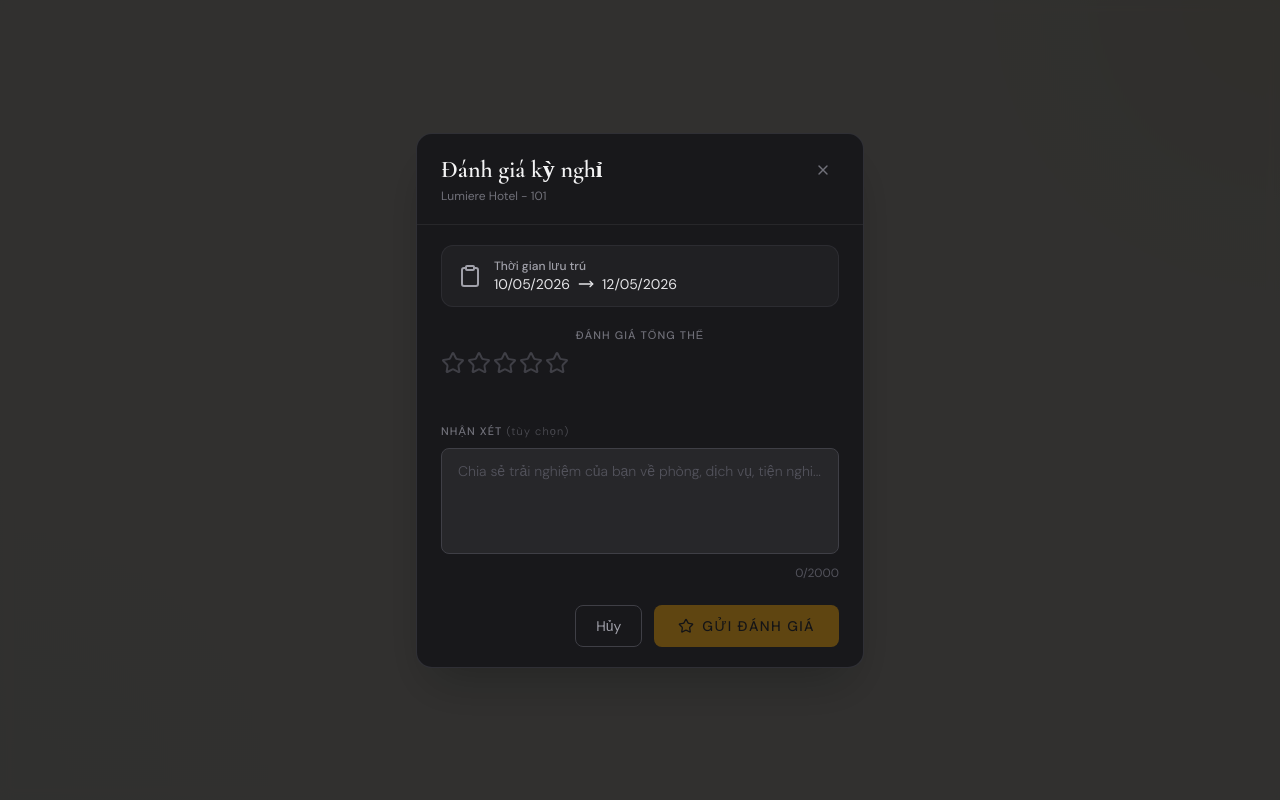
Test: ReviewModal › should update comment and character count
The image size is (1280, 800).
Step 1. Type "Phòng sạch và dịch vụ tốt" into the text box with placeholder "Chia sẻ trải nghiệm của bạn về phòng, dịch vụ, tiện nghi..." → (640, 500), box [441, 448, 839, 554]
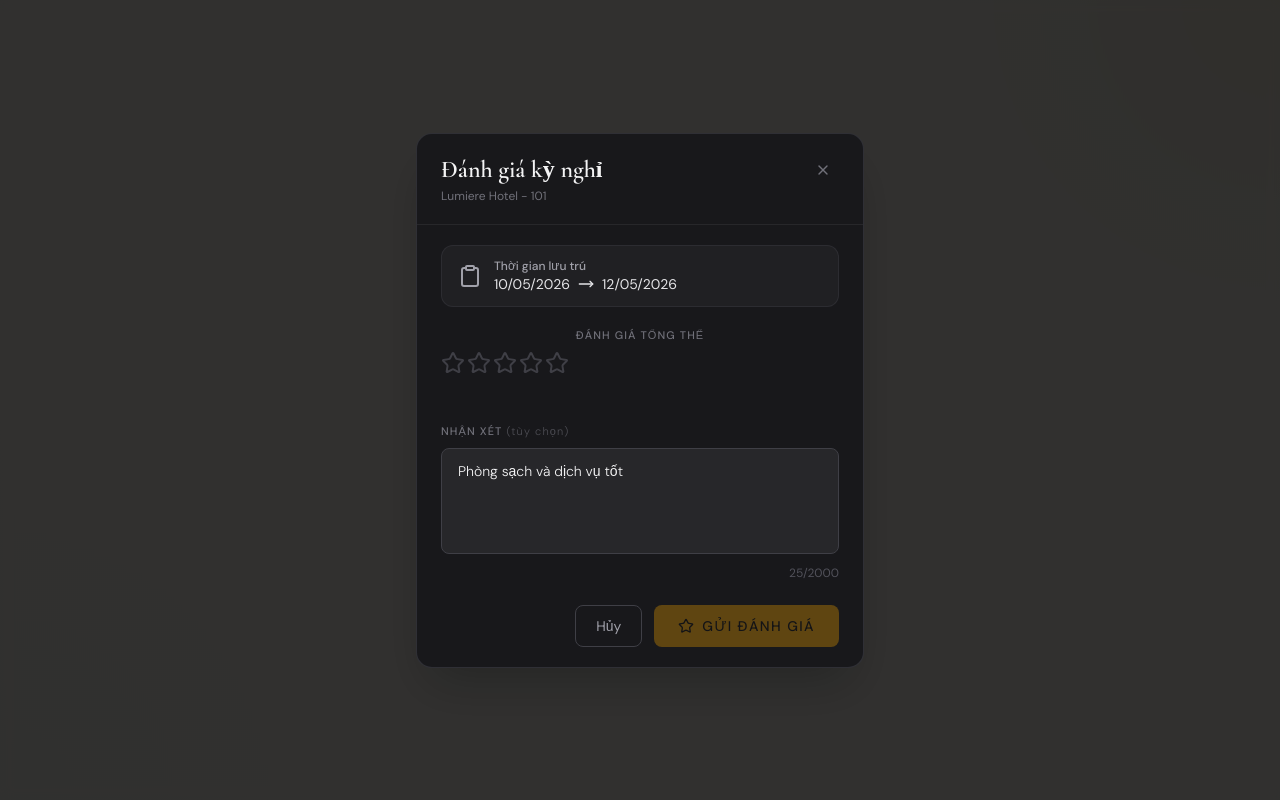
Now the text "25/2000" is shown, box [789, 564, 839, 580]
